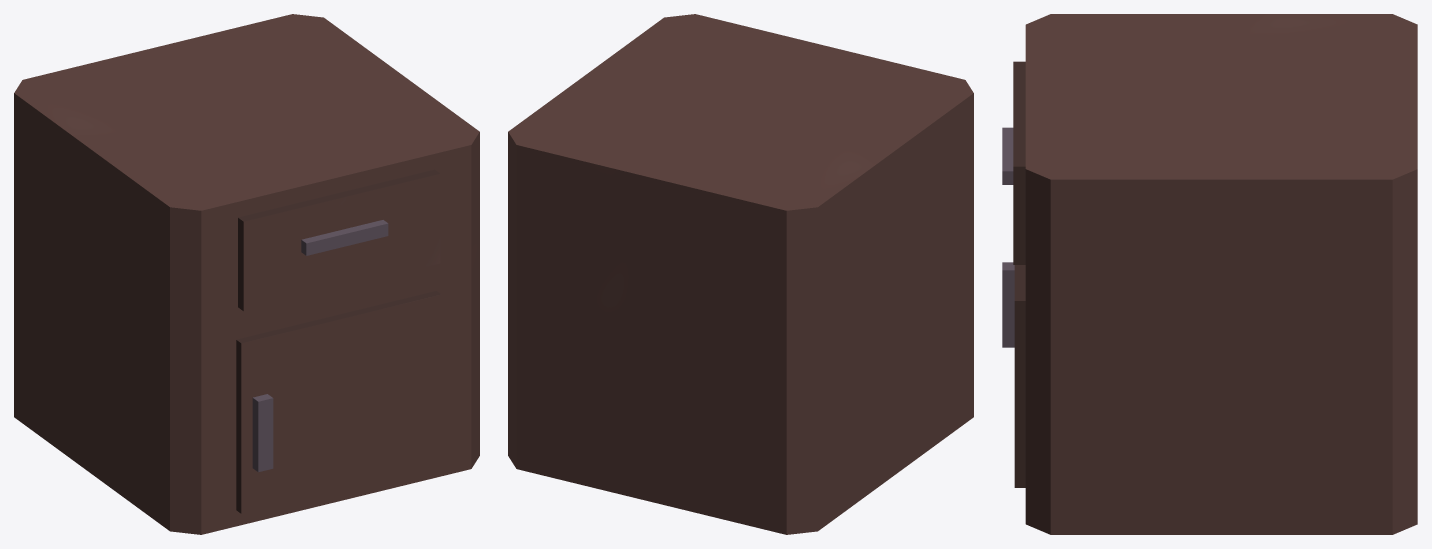
File: MesaDecabeceira.fbx
3 views of the same model, side by side, from view 1: azimuth 30°, elevation 25°; view 2: azimuth 150°, elevation 25°; view 3: azimuth 270°, elevation 25° (orthographic). The views are drawn at different scales.
Visible parts, largest first — view 1: MesadeCabeceira; view 2: MesadeCabeceira; view 3: MesadeCabeceira.
Boxes of the visible parts, bbox=[...] form: MesadeCabeceira: bbox=[14, 14, 479, 534]; MesadeCabeceira: bbox=[508, 14, 973, 534]; MesadeCabeceira: bbox=[1002, 14, 1417, 534].
Size of the model in its own units: 79.88 by 79.88 by 84.67.
Materials: 1 (1 with a texture image).
